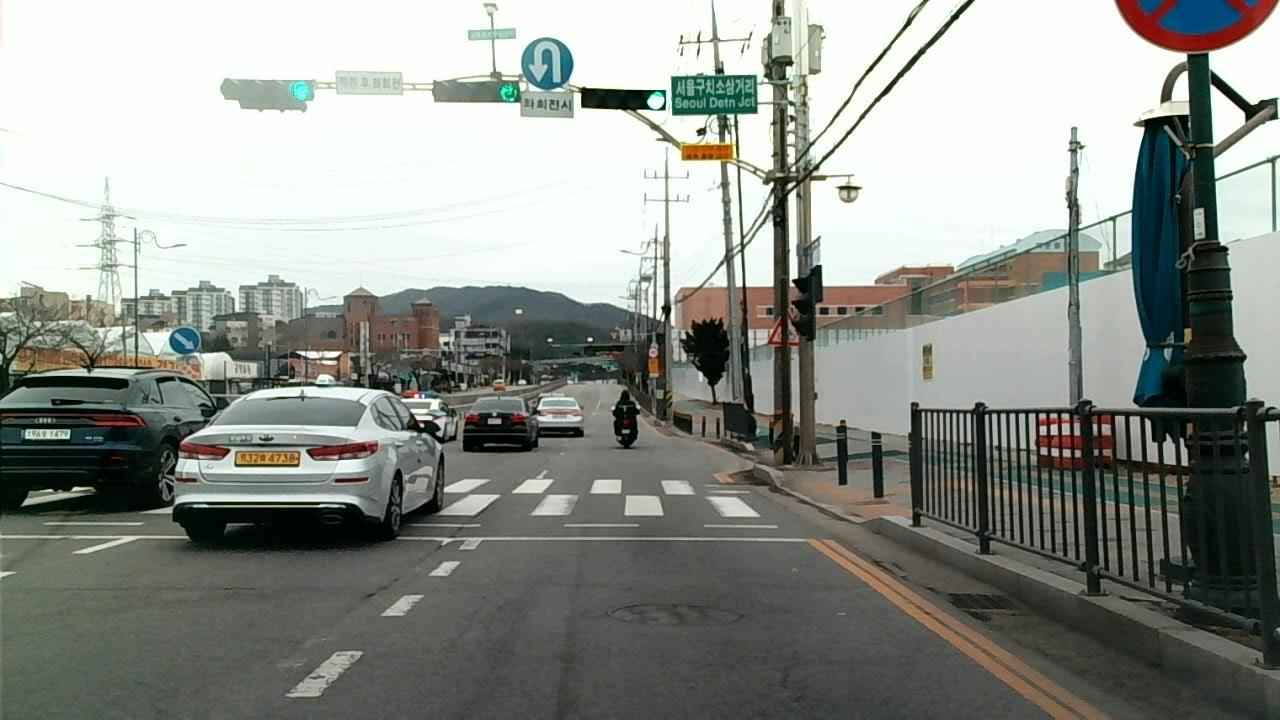hcrack: (40, 580, 268, 596)
vcrack: (361, 534, 462, 601), (459, 504, 491, 530)
